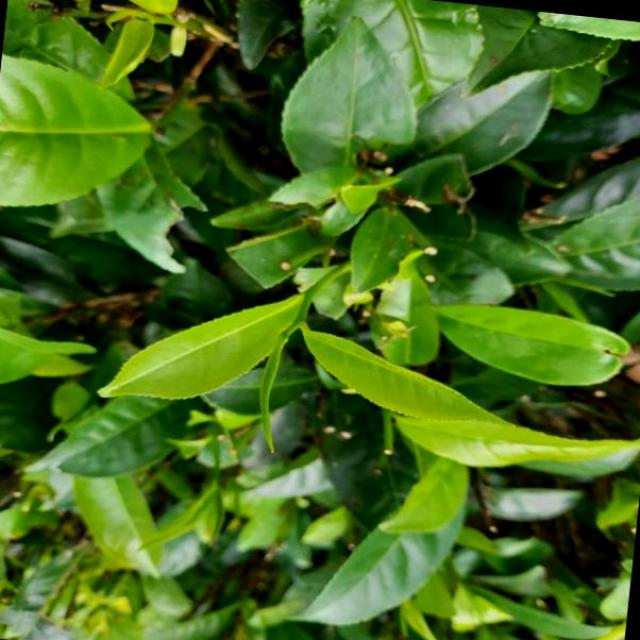Stem: (296, 294, 314, 323)
